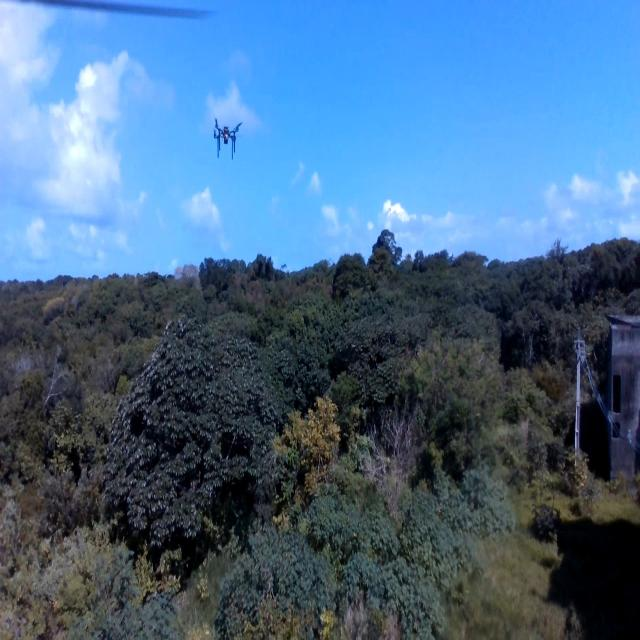-uav-: (205, 108, 247, 164)
